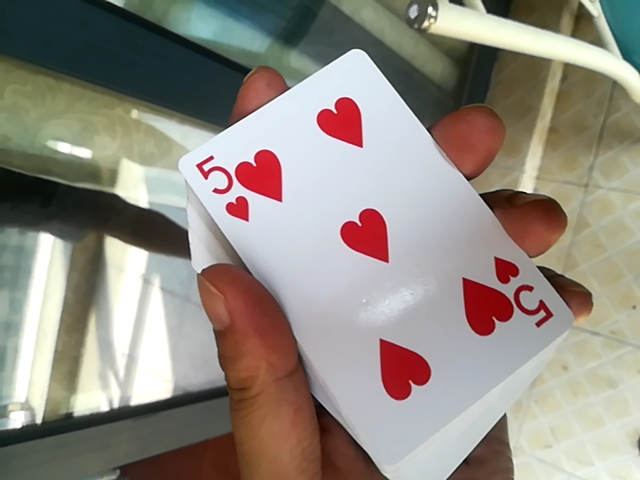hx 5: (159, 51, 569, 475)
